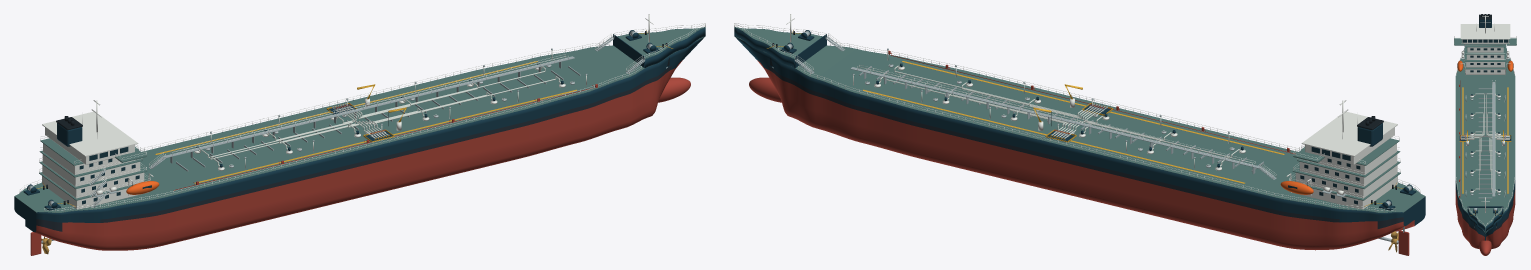
Rendered from tanker_learning.glb.
3 renders of one model, left to right at view 1: azimuth 30°, elevation 25°; view 2: azimuth 150°, elevation 25°; view 3: azimuth 270°, elevation 25°, orthographic. The views are drawn at different scales.
Visible parts, largest first — view 1: Hull_near_structure, Decks_far_cover, Accommodation_far_structure, Railings_far_structure, Piping_far_structure, Walkway_far_structure, Markings_far_cover, Walkway_far_cover, Hull_far_structure, PipeSupports_far_structure, Stairs_far_structure, Funnel_far_structure (+6 smaller); view 2: Hull_far_structure, Decks_far_cover, Accommodation_far_structure, Railings_far_structure, Piping_far_structure, Walkway_far_structure, Markings_far_cover, Walkway_far_cover, Funnel_far_structure, Mooring_far_structure, FireSystem_far_structure, Windows_far_structure (+6 smaller); view 3: Decks_far_cover, Accommodation_far_structure, Hull_far_structure, Hull_near_structure, Piping_far_structure, PipeSupports_far_structure, Markings_far_cover, Windows_far_structure, Walkway_far_cover, Railings_far_structure, Survival_far_structure, Walkway_far_structure (+9 smaller).
Part boxes in pixels (x1,y1,x2,y2): Hull_near_structure: (35,27,705,250); Decks_far_cover: (14,27,705,212); Accommodation_far_structure: (39,111,148,209); Railings_far_structure: (19,23,705,212); Piping_far_structure: (198,66,560,166); Walkway_far_structure: (170,54,568,163); Markings_far_cover: (155,61,576,183); Walkway_far_cover: (164,56,574,157); Hull_far_structure: (14,27,704,232); PipeSupports_far_structure: (176,66,580,171); Stairs_far_structure: (89,33,645,207); Funnel_far_structure: (56,116,82,146); Hull_far_structure: (734,27,1425,250); Decks_far_cover: (734,27,1425,212); Accommodation_far_structure: (1291,111,1400,209); Railings_far_structure: (734,23,1420,212); Piping_far_structure: (879,65,1241,166); Walkway_far_structure: (857,64,1255,174); Markings_far_cover: (863,61,1284,183); Walkway_far_cover: (850,67,1261,168); Funnel_far_structure: (1357,116,1383,146); Mooring_far_structure: (767,30,1416,210); FireSystem_far_structure: (888,50,1295,154); Windows_far_structure: (1300,147,1360,204); Decks_far_cover: (1455,58,1515,233); Accommodation_far_structure: (1454,24,1516,74); Hull_far_structure: (1479,180,1515,255); Hull_near_structure: (1455,180,1485,248); Piping_far_structure: (1461,93,1509,190); PipeSupports_far_structure: (1478,88,1492,198); Markings_far_cover: (1462,87,1508,193); Windows_far_structure: (1462,39,1508,72); Walkway_far_cover: (1492,82,1495,196); Railings_far_structure: (1454,36,1516,226); Survival_far_structure: (1457,51,1513,75); Walkway_far_structure: (1492,82,1495,196).
Size of the model in its own units: 199 by 39.42 by 27.88.
